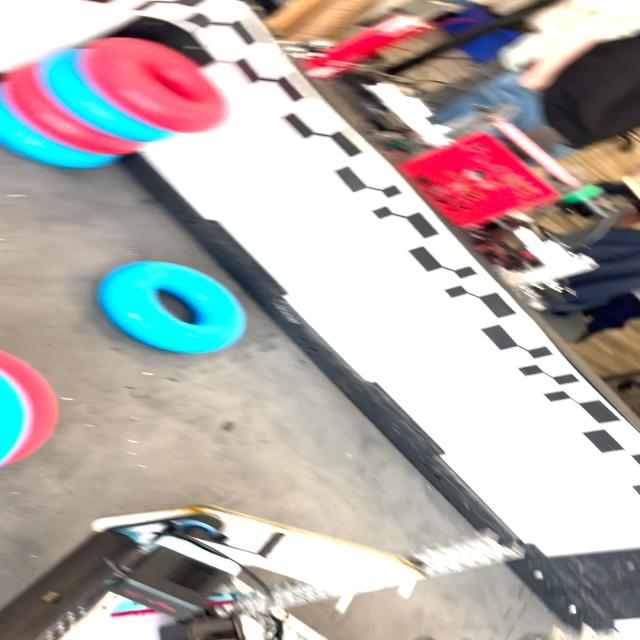Blue-Ring: (98, 261, 244, 354), (40, 49, 176, 142), (0, 98, 120, 168)
Red-Ring: (82, 38, 227, 132), (2, 64, 144, 155), (5, 352, 55, 466)
